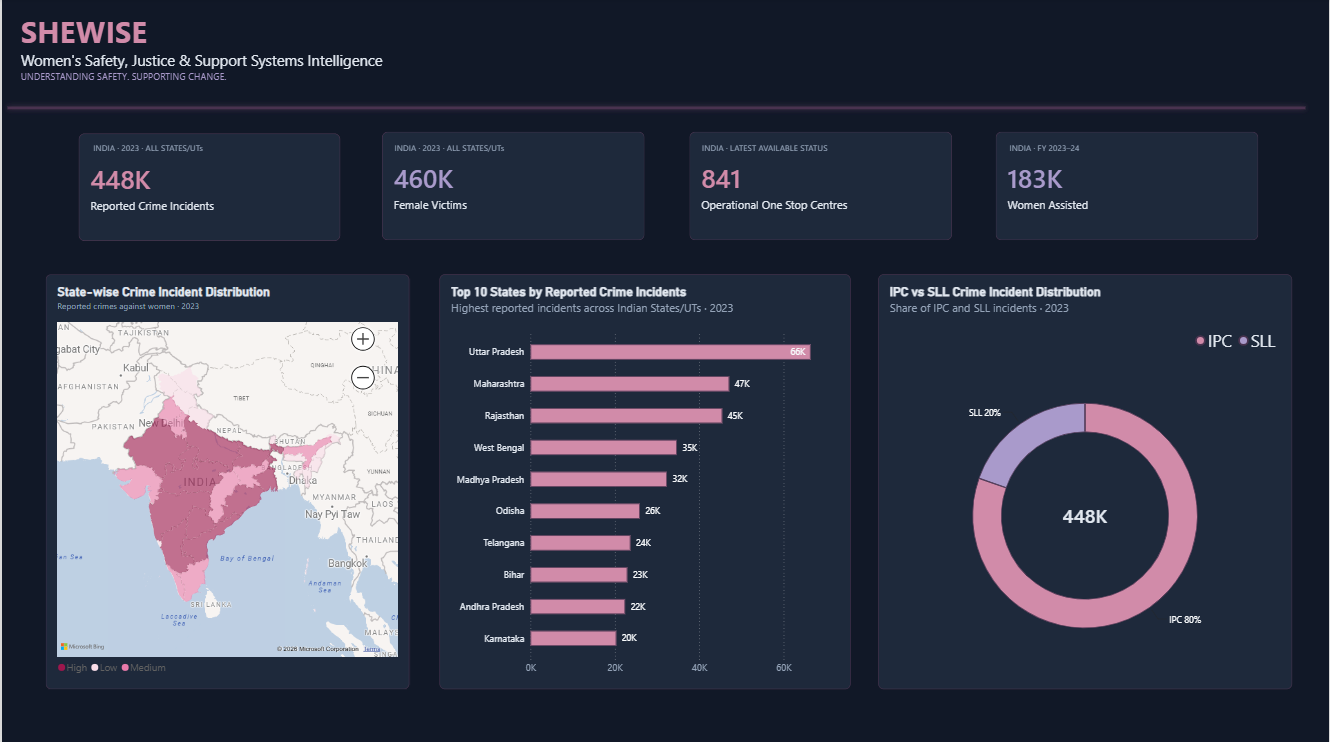

Layout of this report page (visuals, bound fields, positions):
{"tool":"powerbi","page":{"name":"Page 1","canvas":[1920,1080],"ordinal":0},"visuals":[{"type":"textbox","box":[26.7,17.8,562.2,111.1],"z":0},{"type":"shape","box":[0,95,1895,130],"z":1000},{"type":"cardVisual","fields":{"Data":["Sum(PowerBI_Ready.Total Crime Incidents)"]},"box":[110.4,195.4,380,157.4],"z":2000},{"type":"textbox","box":[132.1,206.3,289.5,56.1],"z":3000},{"type":"cardVisual","fields":{"Data":["Sum(PowerBI_Ready.Total Victims)"]},"box":[550.1,193.6,380,157.4],"z":4000},{"type":"textbox","box":[568.2,206.3,161.1,41.6],"z":5000},{"type":"cardVisual","fields":{"Data":["Sum(PowerBI_Ready (3).Operational OSCs)"]},"box":[995.3,193.6,380,157.4],"z":6000},{"type":"textbox","box":[1013.4,206.3,229.8,67],"z":7000},{"type":"cardVisual","fields":{"Data":["Sum(PowerBI_Ready (3).Women Assisted – FY 2023-24)"]},"box":[1438.7,193.6,380,157.4],"z":8000},{"type":"textbox","box":[1458.6,206.3,110.4,67],"z":9000},{"type":"filledMap","title":"State-wise Crime Incident Distribution","fields":{"Category":["PowerBI_Ready.State/UT"],"Series":["PowerBI_Ready.Crime Intensity"]},"box":[63.3,399.9,526.6,600.8],"z":10000},{"type":"clusteredBarChart","title":"Top 10 States by Reported Crime Incidents","fields":{"Category":["PowerBI_Ready.State/UT"],"Y":["Sum(PowerBI_Ready.Total Crime Incidents)"]},"box":[633.4,399.9,595.4,600.8],"z":11000},{"type":"donutChart","title":"IPC vs SLL Crime Incident Distribution","fields":{"Category":["Crime_Type_Distribution.Crime Type"],"Y":["Sum(Crime_Type_Distribution.Total Incidents)"]},"box":[1268.6,399.9,599,600.8],"z":12000}]}

Visuals, with their boxes in screenshot pixels (x1, y1, x2, y2), scaled from the page's 1920x1080 canvas onto the 1330x742 screenshot:
textbox: [left=18, top=12, right=408, bottom=89]
shape: [left=0, top=65, right=1313, bottom=155]
cardVisual - Sum(PowerBI_Ready.Total Crime Incidents): [left=76, top=134, right=340, bottom=242]
textbox: [left=92, top=142, right=292, bottom=180]
cardVisual - Sum(PowerBI_Ready.Total Victims): [left=381, top=133, right=644, bottom=241]
textbox: [left=394, top=142, right=505, bottom=170]
cardVisual - Sum(PowerBI_Ready (3).Operational OSCs): [left=689, top=133, right=953, bottom=241]
textbox: [left=702, top=142, right=861, bottom=188]
cardVisual - Sum(PowerBI_Ready (3).Women Assisted – FY 2023-24): [left=997, top=133, right=1260, bottom=241]
textbox: [left=1010, top=142, right=1087, bottom=188]
"State-wise Crime Incident Distribution" filledMap: [left=44, top=275, right=409, bottom=688]
"Top 10 States by Reported Crime Incidents" clusteredBarChart: [left=439, top=275, right=851, bottom=688]
"IPC vs SLL Crime Incident Distribution" donutChart: [left=879, top=275, right=1294, bottom=688]
